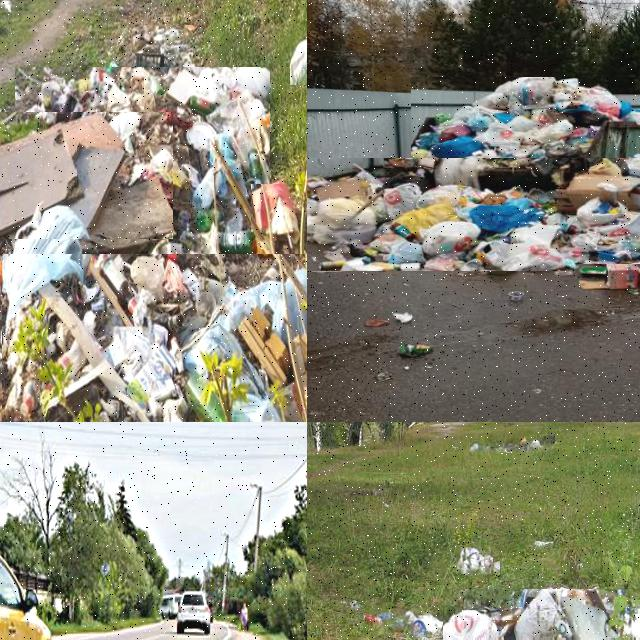lixeira: (2, 254, 306, 421), (15, 67, 271, 255), (307, 158, 639, 274), (412, 77, 639, 193), (0, 112, 175, 241), (444, 588, 639, 639), (252, 184, 304, 258), (132, 26, 194, 80), (365, 602, 444, 639), (470, 435, 557, 454), (580, 265, 639, 292), (456, 545, 502, 575), (362, 310, 413, 328), (291, 31, 306, 87), (398, 342, 432, 359), (0, 0, 37, 14)
